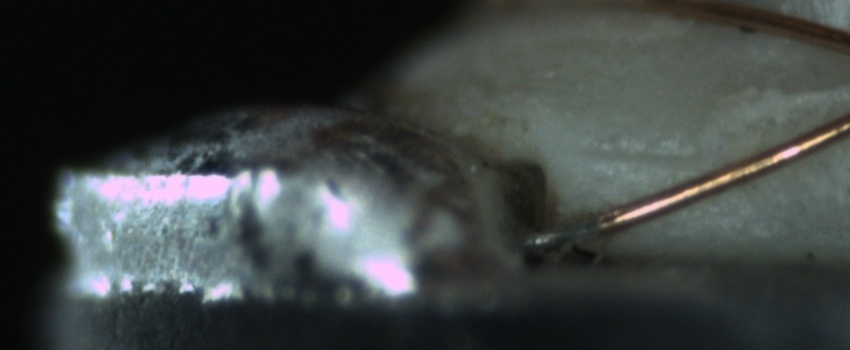DL: (578, 126, 707, 185)
TS: (528, 216, 602, 250)
